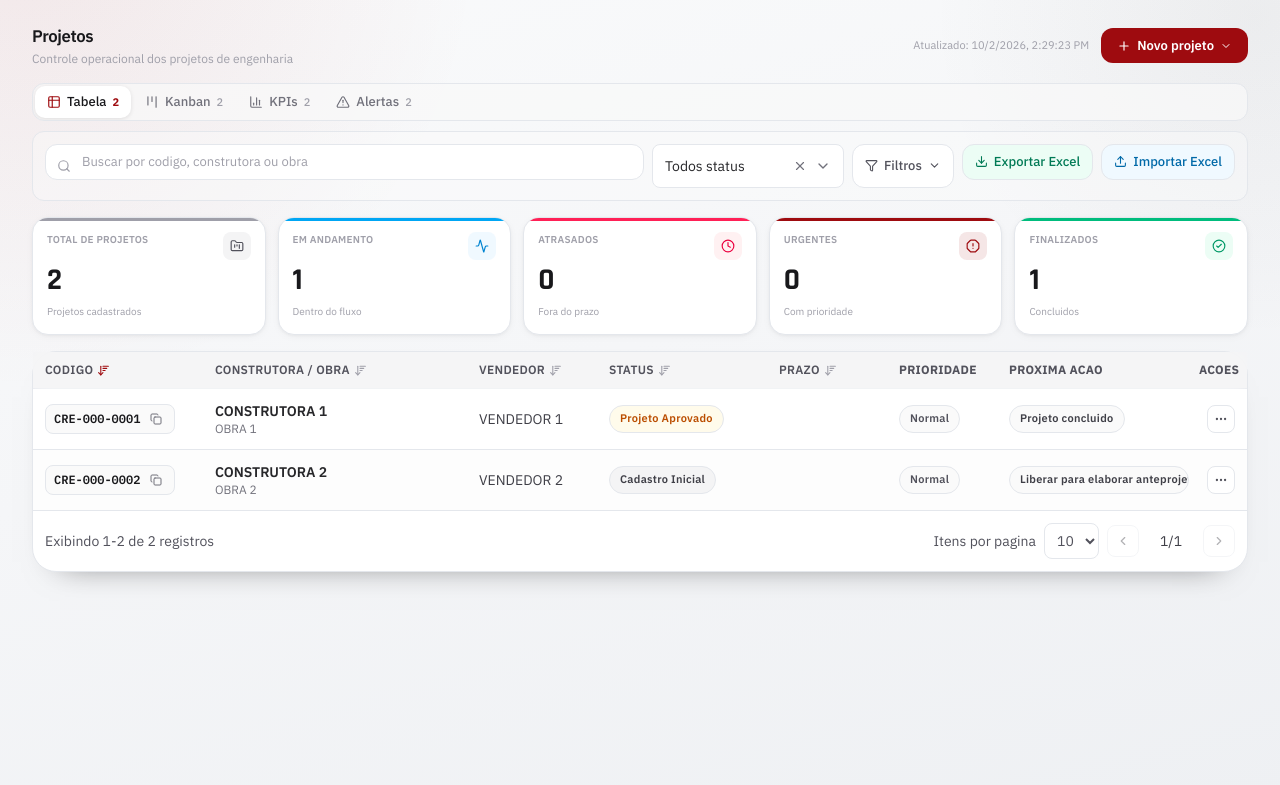
Test: ADMIN — ação visível › drawer de detalhes: botão 'Regredir status' ao lado de 'Editar projeto'
Click the button named "Abrir acoes do projeto" in the row of "CRE-000-0001". click: (1221, 419)
box: [1207,405,1235,433]
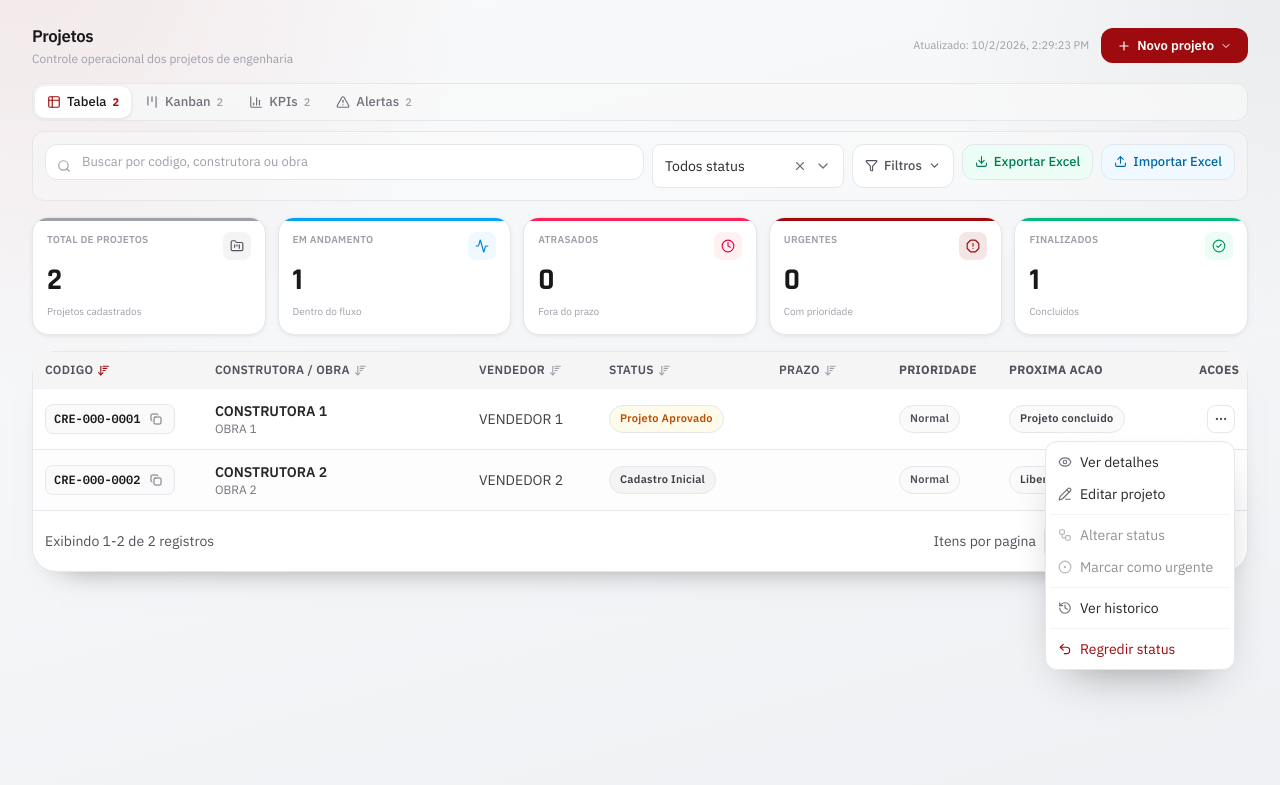
Now the menu item "Ver detalhes" is shown
Click the menu item "Ver detalhes". click: (1108, 462)
box: [1058,453,1159,471]
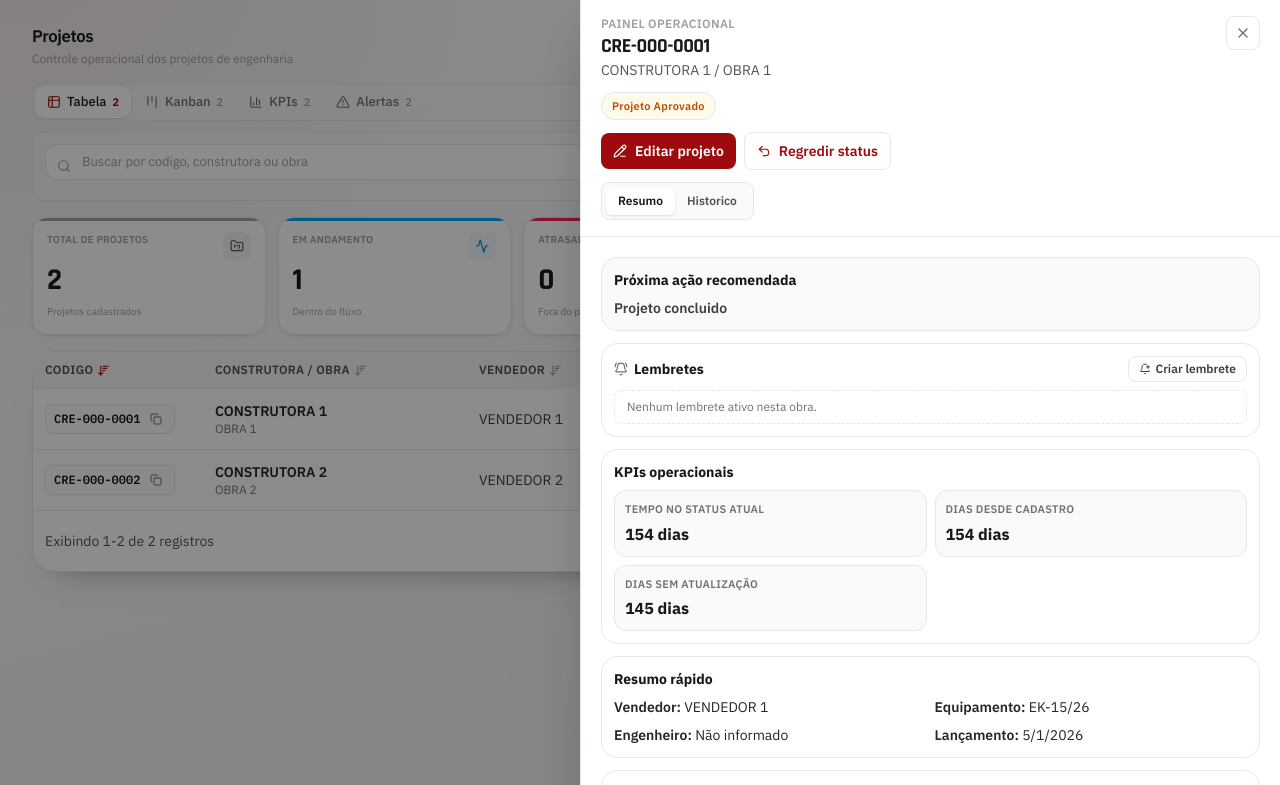
Now the button "Editar projeto" is shown, box [601,133,736,169]
Click the button "Regredir status". click: (817, 151)
box: [744,132,891,170]
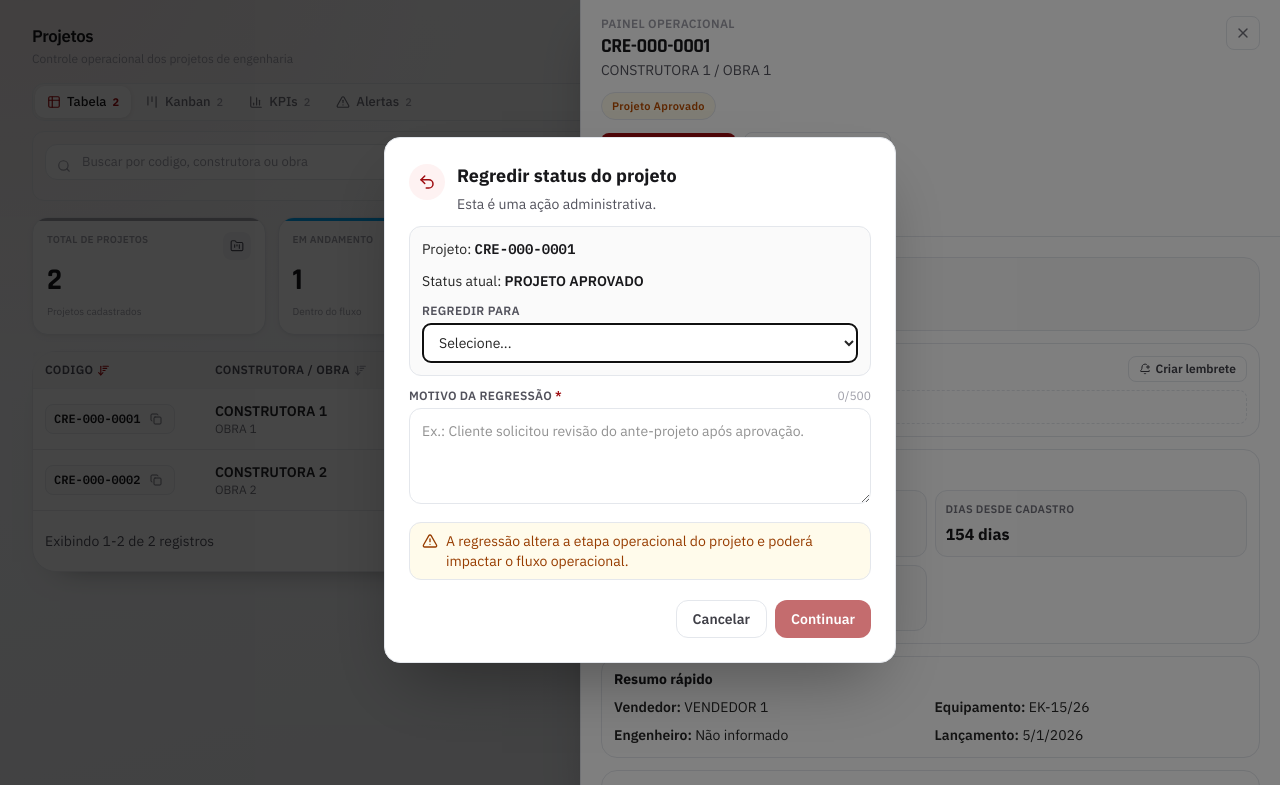
Now the dialog with test id "admin-status-regression-dialog" is shown, box [384,137,896,663]
